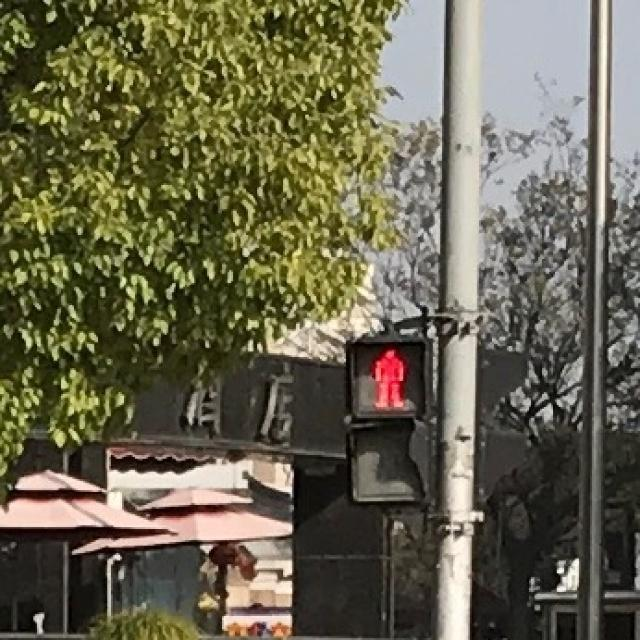red-crossing: (349, 342, 424, 416)
